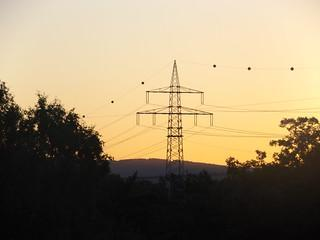power_tower: (136, 55, 219, 186)
